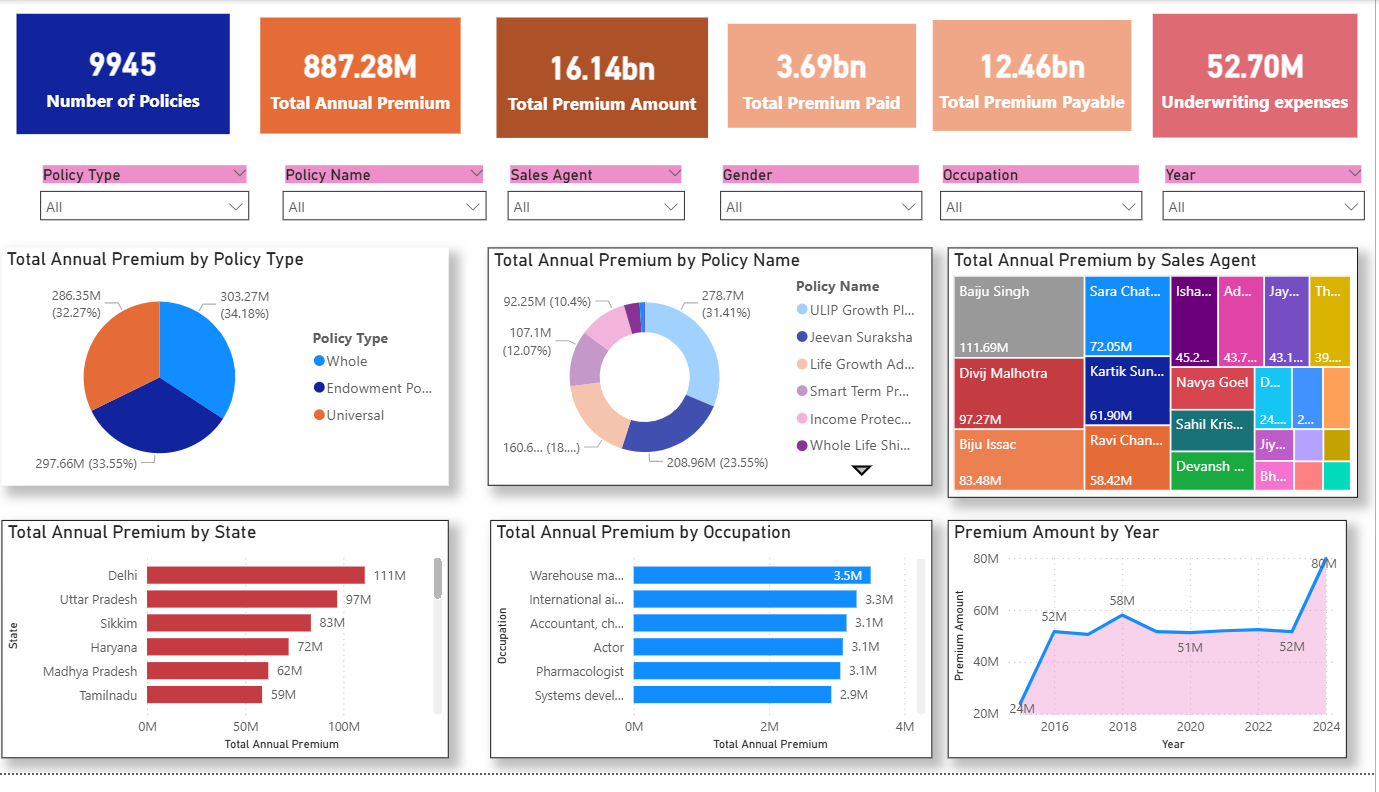

The page's visual inventory and layout, read from the dashboard file:
{"tool":"powerbi","page":{"name":"Summary","canvas":[1280,720],"ordinal":1},"visuals":[{"type":"card","fields":{"Values":["CountNonNull(DM Customer_Detail_Table.Customer ID)"]},"box":[16.7,13.3,198.3,111.7],"z":0},{"type":"card","fields":{"Values":["Sum(FCT Insurance_Policy_Table.Total Annual Premium)"]},"box":[243.3,16.7,186.7,108.3],"z":1000},{"type":"card","fields":{"Values":["Sum(FCT Insurance_Policy_Table.Total Premium Amount)"]},"box":[463.3,16.7,196.7,111.7],"z":2000},{"type":"card","fields":{"Values":["Sum(FCT Insurance_Policy_Table.Total Premium Paid)"]},"box":[678.3,21.7,175,96.7],"z":3000},{"type":"card","fields":{"Values":["Sum(FCT Insurance_Policy_Table.Total Premium Payable)"]},"box":[868.3,18.3,185,103.3],"z":4000},{"type":"card","fields":{"Values":["Sum(FCT Insurance_Policy_Table.Underwriting expenses)"]},"box":[1073.3,13.3,190,115],"z":5000},{"type":"slicer","fields":{"Values":["DM Policy_Type.Policy Type"]},"box":[28.3,148.3,215,75],"z":6000},{"type":"slicer","fields":{"Values":["DM Policy_Protection_Plan.Policy Name"]},"box":[253.3,148.3,210,75],"z":7000},{"type":"slicer","fields":{"Values":["DM Insurance_Agent_Table.Sales Agent"]},"box":[463.3,148.3,185,75],"z":8000},{"type":"slicer","fields":{"Values":["DM Customer_Detail_Table.Gender"]},"box":[660,148.3,208.3,75],"z":9000},{"type":"slicer","fields":{"Values":["DM Customer_Detail_Table.Occupation"]},"box":[865,148.3,208.3,75],"z":10000},{"type":"slicer","fields":{"Values":["FCT Insurance_Policy_Table.Date of Purchase.Variation.Date Hierarchy.Year"]},"box":[1071.7,148.3,208.3,75],"z":11000},{"type":"pieChart","fields":{"Y":["Sum(FCT Insurance_Policy_Table.Total Annual Premium)"],"Category":["DM Policy_Type.Policy Type"]},"box":[2.5,230,416.2,221.2],"z":12000},{"type":"donutChart","fields":{"Y":["Sum(FCT Insurance_Policy_Table.Total Annual Premium)"],"Category":["DM Policy_Protection_Plan.Policy Name"]},"box":[455,230,413.8,221.2],"z":13000},{"type":"treemap","fields":{"Group":["DM Insurance_Agent_Table.Sales Agent"],"Values":["Sum(FCT Insurance_Policy_Table.Total Annual Premium)"]},"box":[882.5,230,381.2,232.5],"z":14000},{"type":"clusteredBarChart","fields":{"Category":["DM Customer_Detail_Table.State"],"Y":["Sum(FCT Insurance_Policy_Table.Total Annual Premium)"]},"box":[2.5,483.8,416.2,221.2],"z":15000},{"type":"clusteredBarChart","fields":{"Category":["DM Customer_Detail_Table.Occupation"],"Y":["Sum(FCT Insurance_Policy_Table.Total Annual Premium)"]},"box":[457.5,483.8,411.2,221.2],"z":16000},{"type":"areaChart","fields":{"Category":["FCT Insurance_Policy_Table.Start Date.Variation.Date Hierarchy.Year","FCT Insurance_Policy_Table.Start Date.Variation.Date Hierarchy.Quarter","FCT Insurance_Policy_Table.Start Date.Variation.Date Hierarchy.Month","FCT Insurance_Policy_Table.Start Date.Variation.Date Hierarchy.Day"],"Y":["Sum(FCT Insurance_Policy_Table.Premium Amount)"]},"box":[882.5,483.8,371.2,221.2],"z":17000}]}

Visuals, with their boxes in screenshot pixels (x1, y1, x2, y2), scaled from the page's 1280x720 canvas onto the 1379x792 screenshot:
card - CountNonNull(DM Customer_Detail_Table.Customer ID): l=18, t=15, r=232, b=138
card - Sum(FCT Insurance_Policy_Table.Total Annual Premium): l=262, t=18, r=463, b=138
card - Sum(FCT Insurance_Policy_Table.Total Premium Amount): l=499, t=18, r=711, b=141
card - Sum(FCT Insurance_Policy_Table.Total Premium Paid): l=731, t=24, r=919, b=130
card - Sum(FCT Insurance_Policy_Table.Total Premium Payable): l=935, t=20, r=1135, b=134
card - Sum(FCT Insurance_Policy_Table.Underwriting expenses): l=1156, t=15, r=1361, b=141
slicer - DM Policy_Type.Policy Type: l=30, t=163, r=262, b=246
slicer - DM Policy_Protection_Plan.Policy Name: l=273, t=163, r=499, b=246
slicer - DM Insurance_Agent_Table.Sales Agent: l=499, t=163, r=698, b=246
slicer - DM Customer_Detail_Table.Gender: l=711, t=163, r=935, b=246
slicer - DM Customer_Detail_Table.Occupation: l=932, t=163, r=1156, b=246
slicer - FCT Insurance_Policy_Table.Date of Purchase.Variation.Date Hierarchy.Year: l=1155, t=163, r=1378, b=246
pieChart - Sum(FCT Insurance_Policy_Table.Total Annual Premium) x DM Policy_Type.Policy Type: l=3, t=253, r=451, b=496
donutChart - Sum(FCT Insurance_Policy_Table.Total Annual Premium) x DM Policy_Protection_Plan.Policy Name: l=490, t=253, r=936, b=496
treemap - DM Insurance_Agent_Table.Sales Agent x Sum(FCT Insurance_Policy_Table.Total Annual Premium): l=951, t=253, r=1361, b=509
clusteredBarChart - DM Customer_Detail_Table.State x Sum(FCT Insurance_Policy_Table.Total Annual Premium): l=3, t=532, r=451, b=776
clusteredBarChart - DM Customer_Detail_Table.Occupation x Sum(FCT Insurance_Policy_Table.Total Annual Premium): l=493, t=532, r=936, b=776
areaChart - FCT Insurance_Policy_Table.Start Date.Variation.Date Hierarchy.Year x FCT Insurance_Policy_Table.Start Date.Variation.Date Hierarchy.Quarter: l=951, t=532, r=1351, b=776
